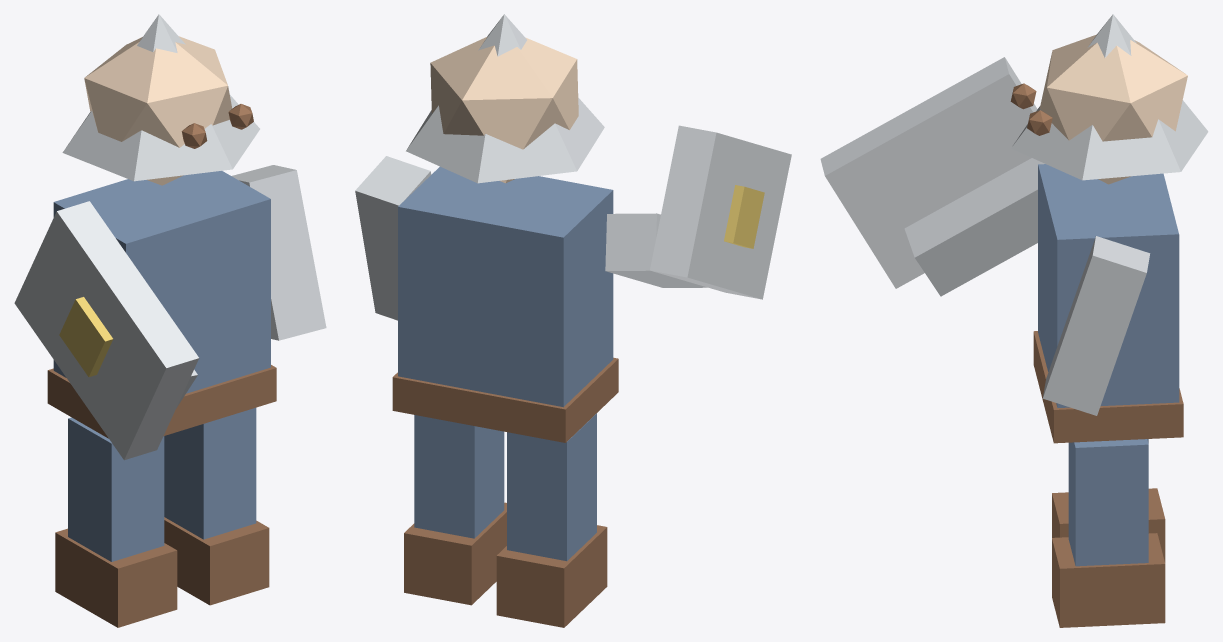
File: npcpose_guard_idle_04.glb
3 renders of one model, left to right at view 1: azimuth 30°, elevation 25°; view 2: azimuth 150°, elevation 25°; view 3: azimuth 270°, elevation 25°, orthographic.
Parts seen in each view (by area): view 1: npcpose; view 2: npcpose; view 3: npcpose.
Part boxes in pixels (left/top/right/bottom): npcpose: left=14, top=14, right=326, bottom=627; npcpose: left=355, top=14, right=791, bottom=627; npcpose: left=820, top=14, right=1208, bottom=627.
Size of the model in its own units: 0.847 by 1.55 by 0.951.
